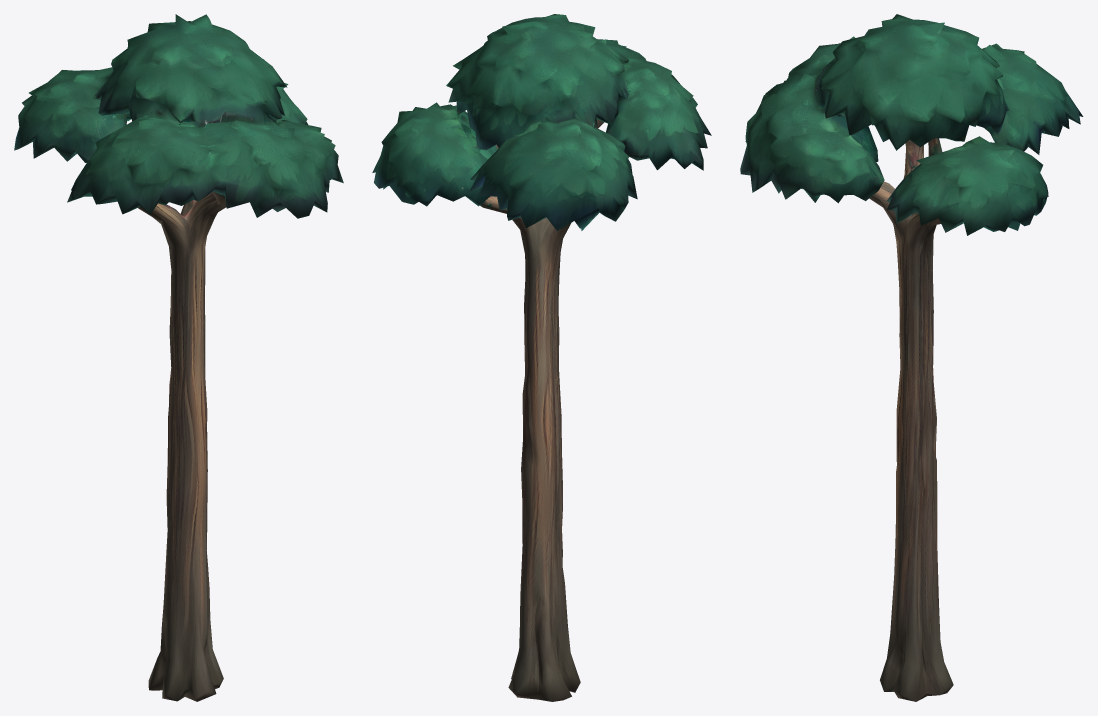
3 views of the same model, side by side, from view 1: azimuth 30°, elevation 25°; view 2: azimuth 150°, elevation 25°; view 3: azimuth 270°, elevation 25° (orthographic).
Parts seen in each view (by area): view 1: Mesh_0; view 2: Mesh_0; view 3: Mesh_0.
Boxes of the visible parts, bbox=[...] form: Mesh_0: bbox=[14, 14, 343, 701]; Mesh_0: bbox=[372, 14, 711, 701]; Mesh_0: bbox=[740, 14, 1083, 701].
Bounding box in the file's own units: 0.8205 × 1.91 × 0.8913.
1 material, 1 textured.
